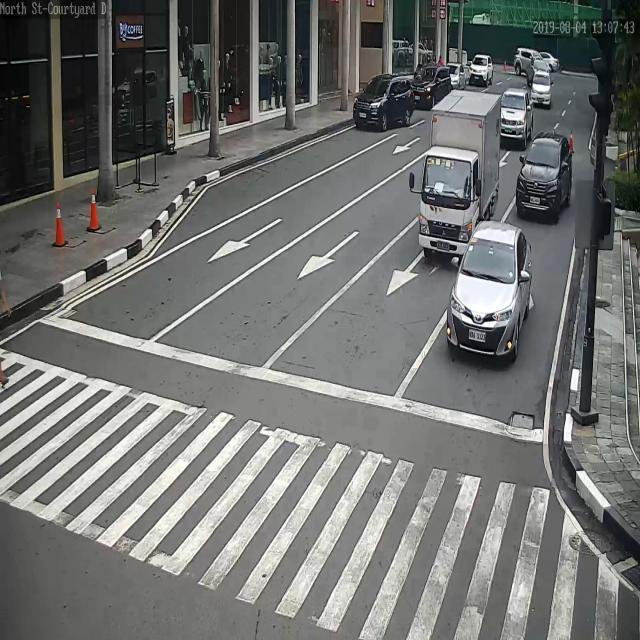car: (446, 219, 534, 357), (515, 132, 571, 220), (352, 74, 412, 131), (413, 64, 454, 108), (501, 89, 533, 145), (526, 49, 561, 77), (513, 48, 546, 77), (468, 53, 493, 87), (531, 68, 553, 106), (446, 62, 472, 91)
motorcycle: (418, 90, 502, 258)
